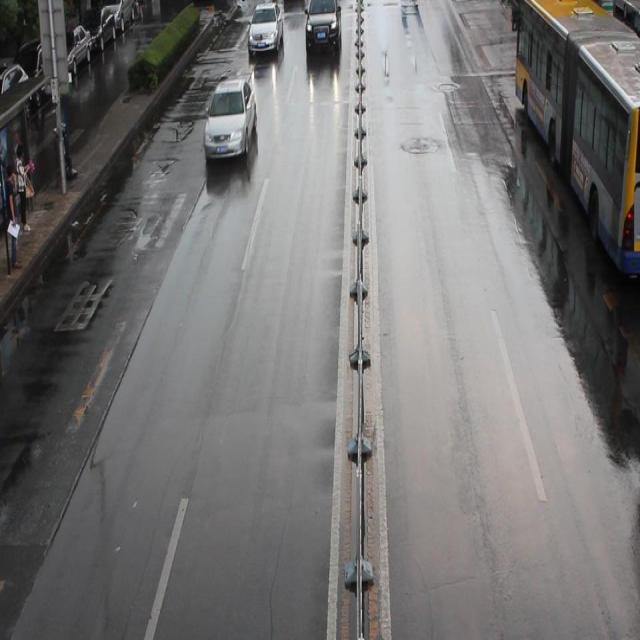car: (202, 76, 256, 163), (248, 1, 283, 55), (304, 1, 340, 51)
van: (514, 1, 640, 273)
